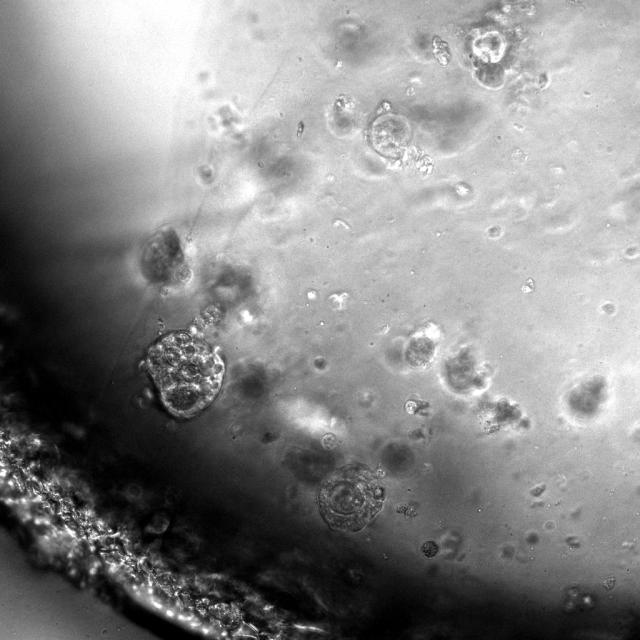organoid: (144, 330, 224, 419), (464, 0, 534, 88), (365, 101, 434, 175), (316, 463, 386, 532), (140, 225, 191, 284), (443, 344, 490, 393), (478, 398, 530, 435), (404, 322, 440, 368), (188, 305, 222, 333), (432, 36, 451, 65), (396, 502, 419, 519), (404, 399, 428, 415), (421, 540, 439, 557), (322, 433, 336, 449)
